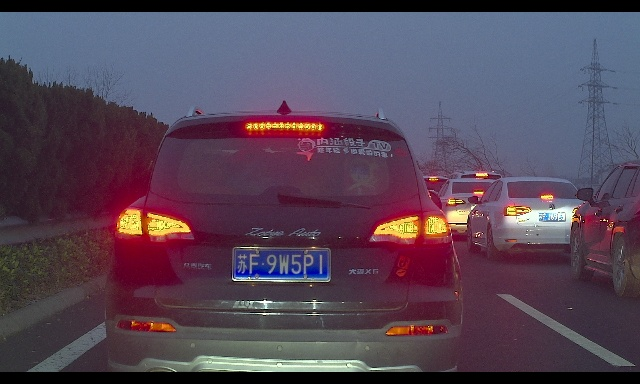car: (104, 100, 463, 372), (467, 177, 591, 261), (570, 159, 640, 298), (434, 178, 503, 239)
